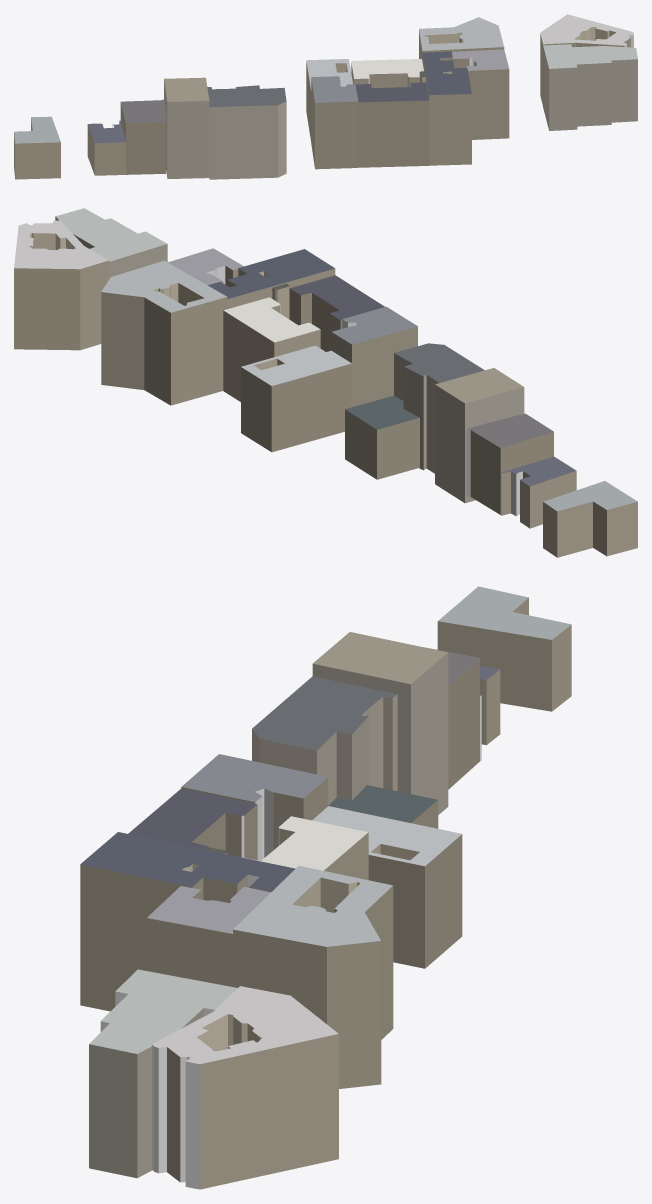
The picture shows the model from 3 angles, top to bottom: view 1: azimuth 30°, elevation 25°; view 2: azimuth 150°, elevation 25°; view 3: azimuth 270°, elevation 25°; orthographic projection. The views are drawn at different scales.
Visible parts, largest first — view 1: tuile; view 2: tuile; view 3: tuile.
Part boxes in pixels (x1=…): tuile: x1=14, y1=14, x2=637, y2=179; tuile: x1=14, y1=208, x2=637, y2=557; tuile: x1=80, y1=586, x2=571, y2=1189.
Bounding box in the file's own units: 231 × 32.18 × 89.5.
